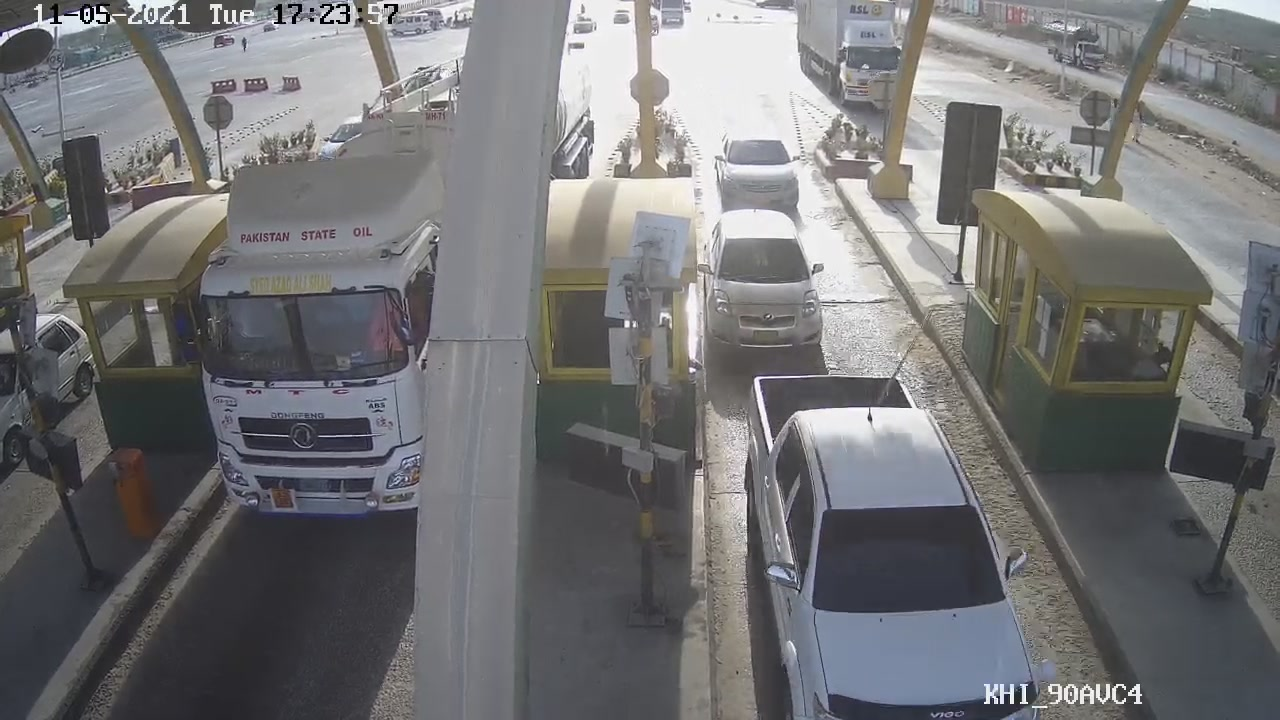F1: (699, 207, 829, 357)
